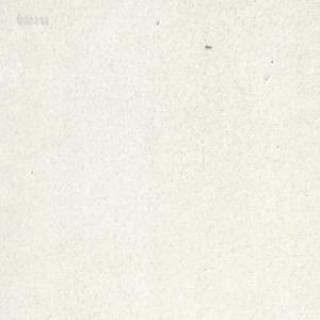Nailtrack_idkeyframe: (204, 42, 211, 47)
